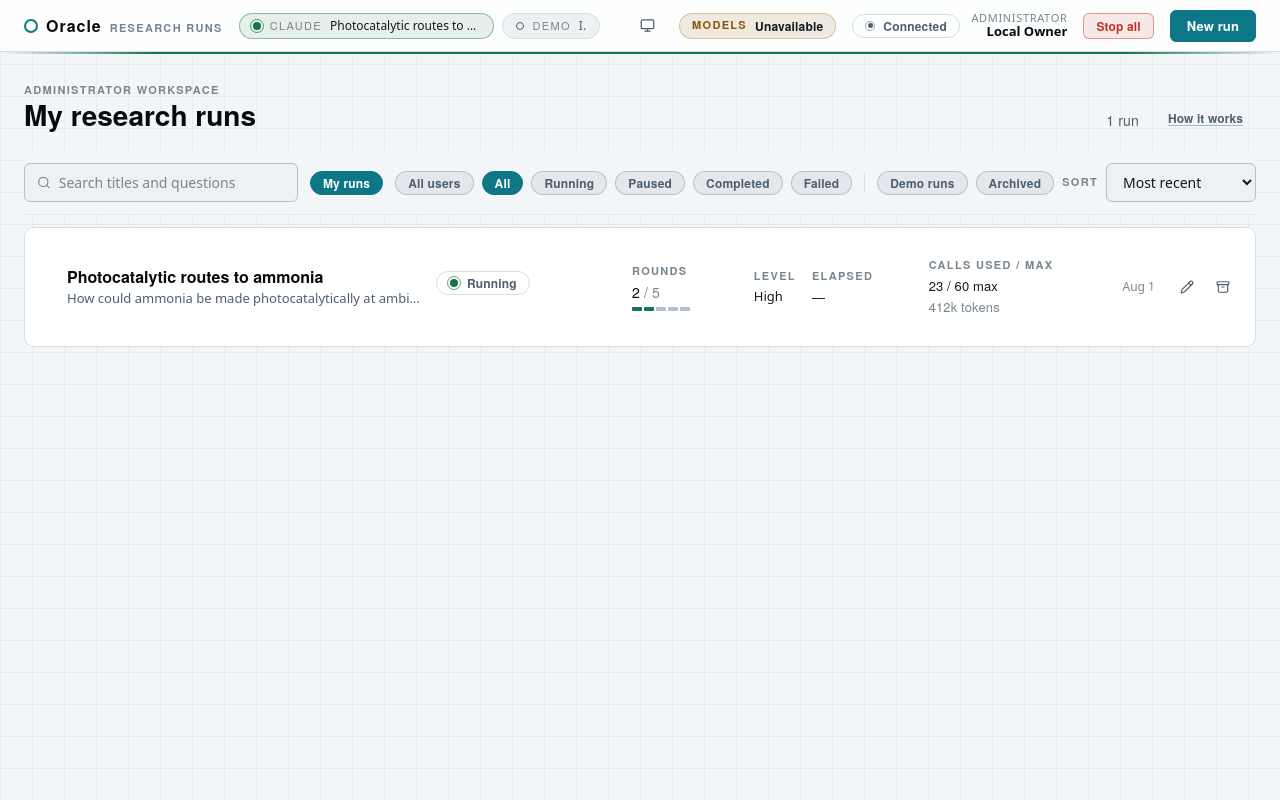
Test: model indicator — the system default › says so, and offers a retry, when the backend cannot be asked
What coordinates should you click on to do the following:
click the button with aria-label "Models: unavailable"
I would click on:
 (758, 26)
Its box is [679,12,836,38].
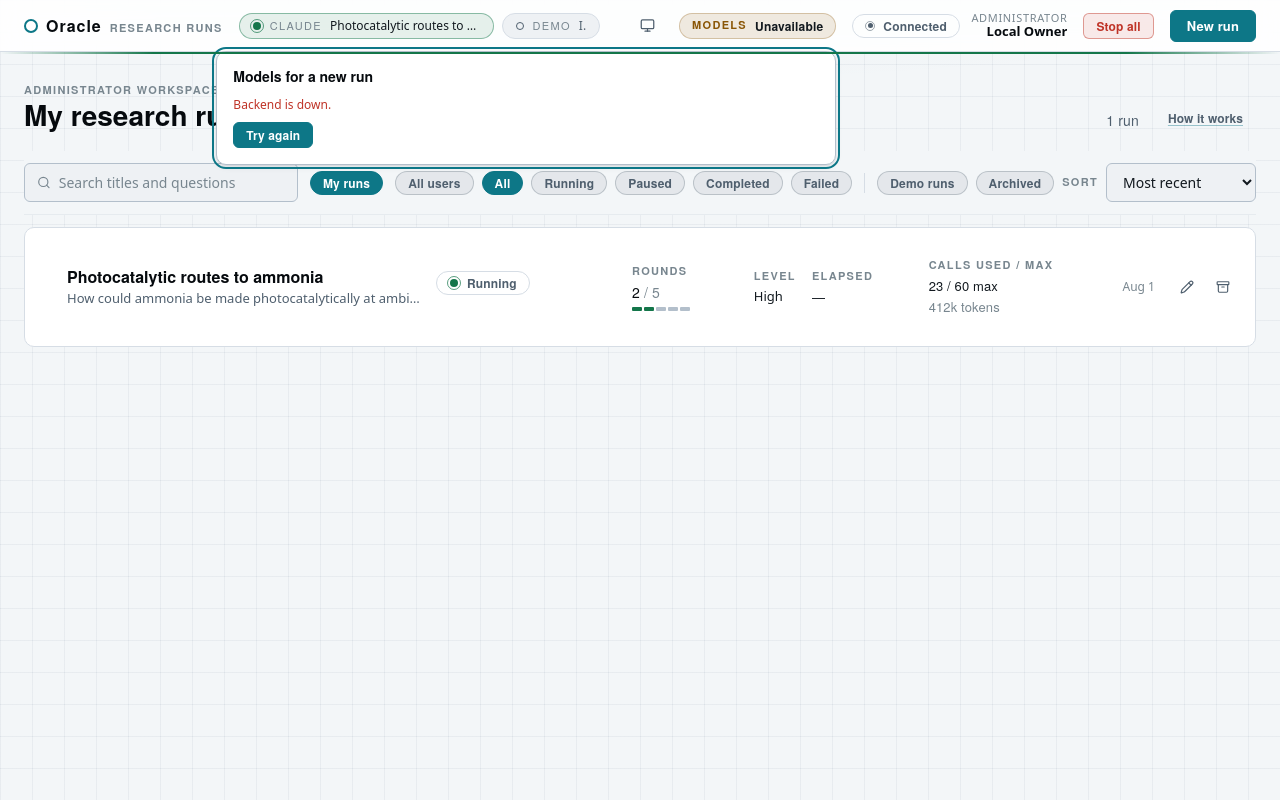
Expected: the message shows "Backend is down.", [233,96,331,113]
Expected: the button "Try again" is shown, [233,122,313,148]
